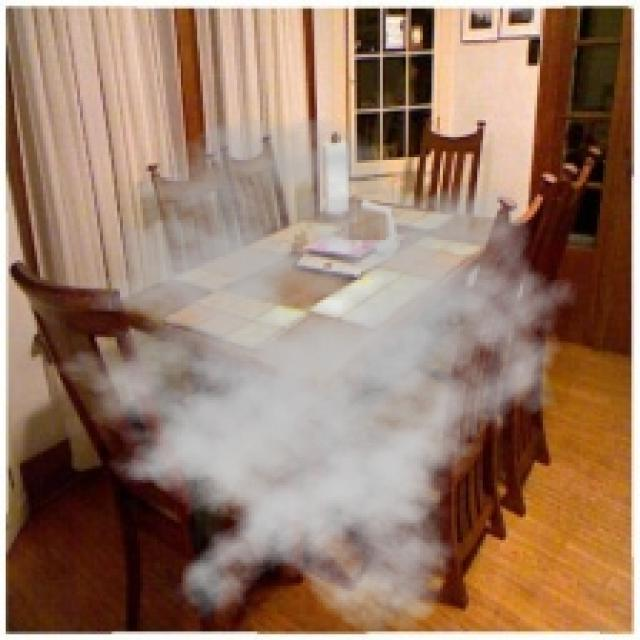Smoke: (29, 114, 592, 637)
